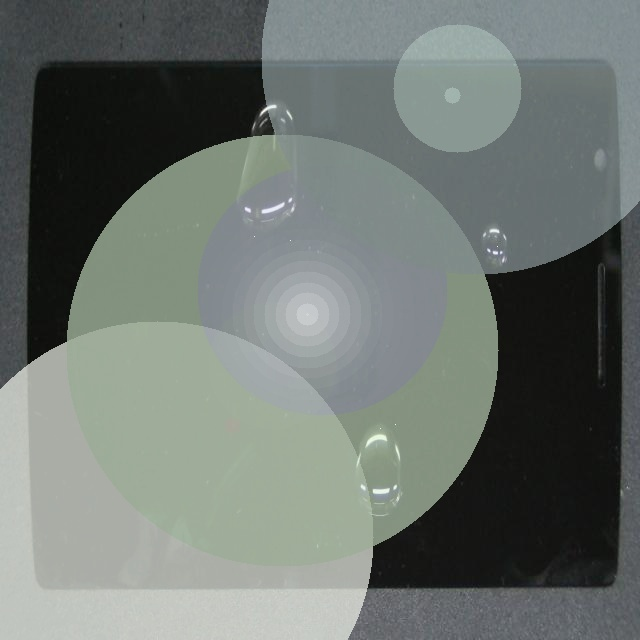oil: (194, 204, 566, 629), (256, 106, 640, 341), (163, 24, 411, 158)
